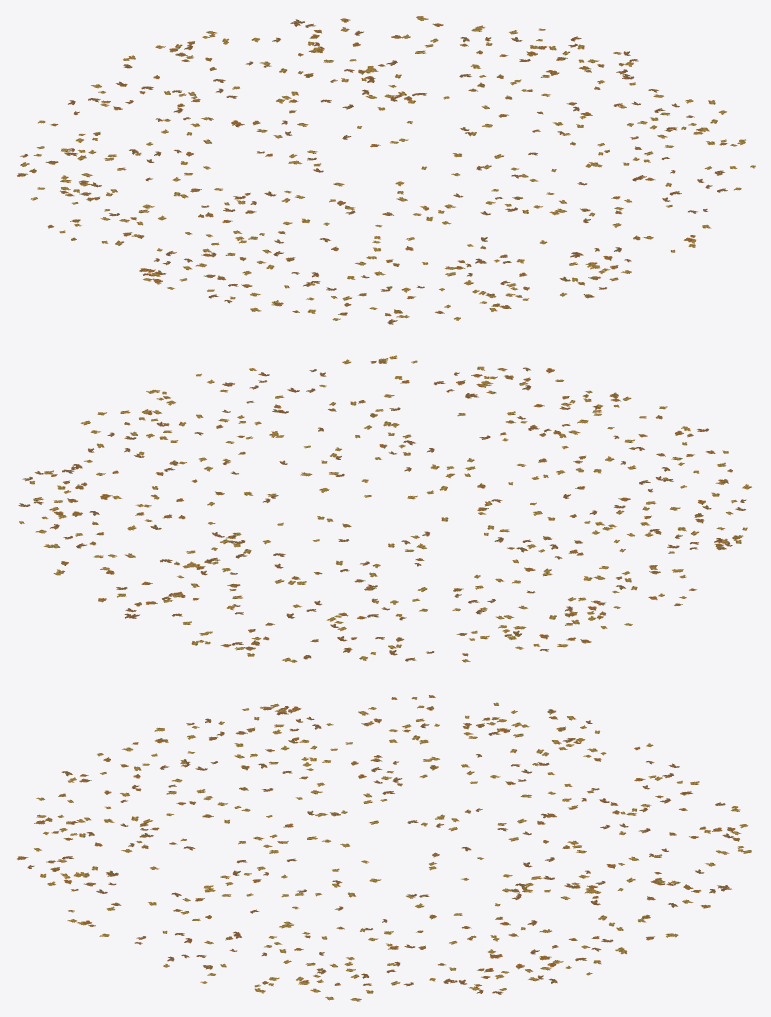
File: chene_vieux_a.fbx
The picture shows the model from 3 angles, top to bottom: view 1: azimuth 30°, elevation 25°; view 2: azimuth 150°, elevation 25°; view 3: azimuth 270°, elevation 25°; orthographic projection.
Parts seen in each view (by area): view 1: chene_vieux_a_feuilles_sol; view 2: chene_vieux_a_feuilles_sol; view 3: chene_vieux_a_feuilles_sol.
Boxes of the visible parts, x1,y1,x2,y2 form: chene_vieux_a_feuilles_sol: [17, 16, 755, 324]; chene_vieux_a_feuilles_sol: [18, 355, 751, 662]; chene_vieux_a_feuilles_sol: [17, 695, 751, 1001].
Size of what is drawn, in the model's own units: 22.86 by 0.00599 by 23.16.
